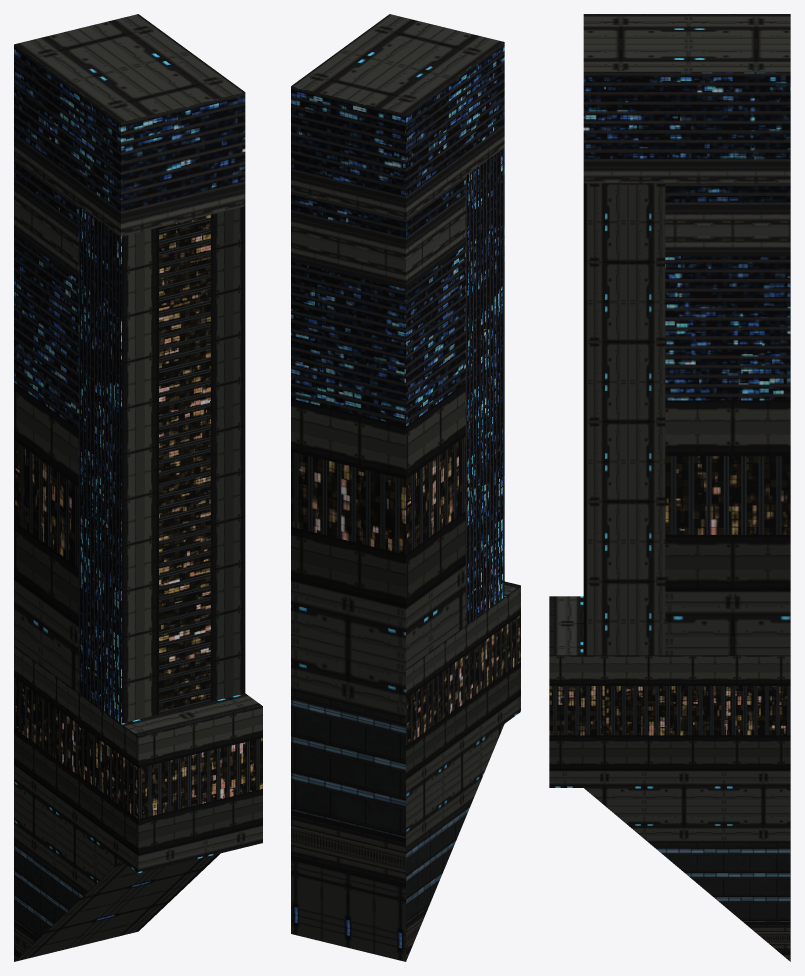
The model's file is Ultra_Addon1.fbx.
3 views of the same model, side by side, from view 1: azimuth 30°, elevation 25°; view 2: azimuth 150°, elevation 25°; view 3: azimuth 270°, elevation 25° (orthographic). The views are drawn at different scales.
Visible parts, largest first — view 1: pPlane25; view 2: pPlane25; view 3: pPlane25.
Boxes of the visible parts, left/top/right/bottom form: pPlane25: left=14, top=14, right=262, bottom=961; pPlane25: left=291, top=14, right=520, bottom=961; pPlane25: left=549, top=14, right=790, bottom=961.
Size of the model in its own units: 5 by 35.25 by 8.66.
Materials: 1 (1 with a texture image).
